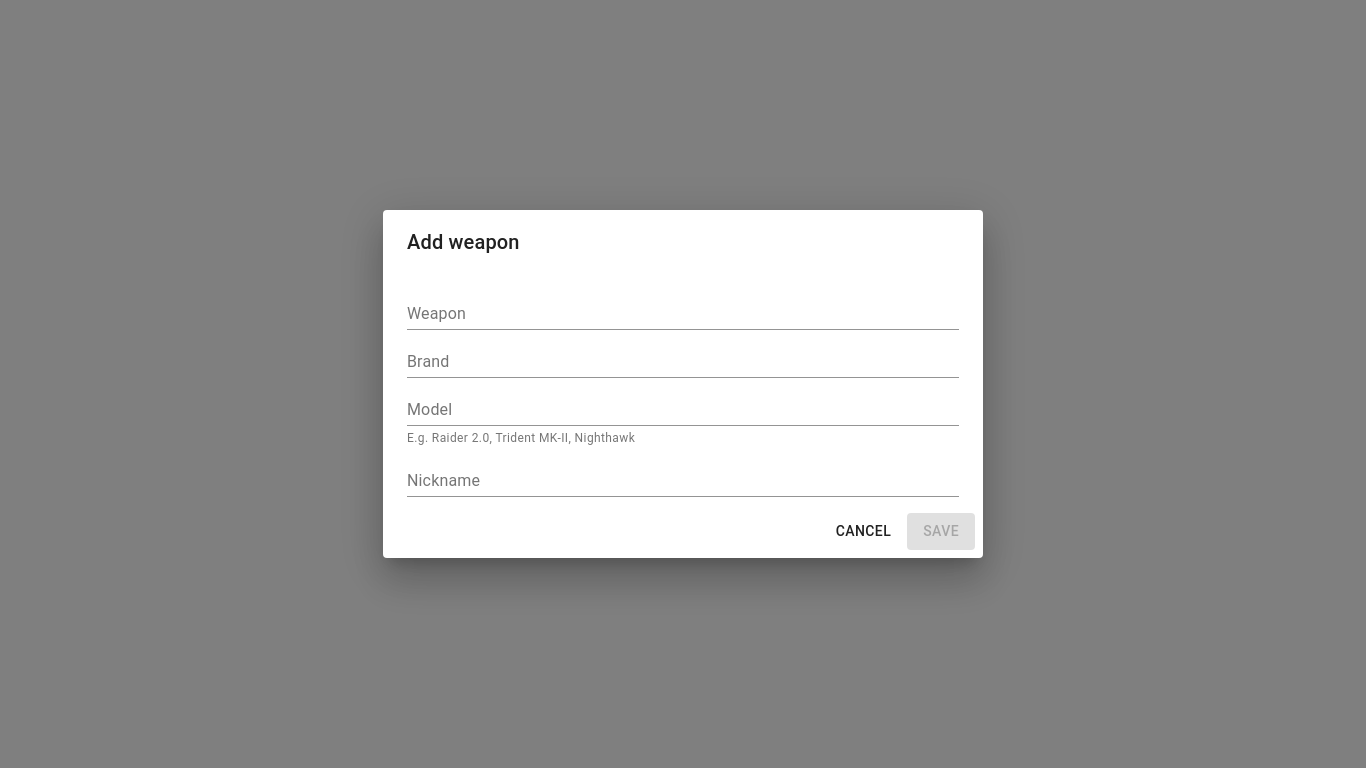
Test: Add armory item dialog › should show type if armory item is not a known one after adding some text
Type "p9" into the field labelled "Weapon" at [683, 314], box x1=407 y1=298 x2=959 y2=329
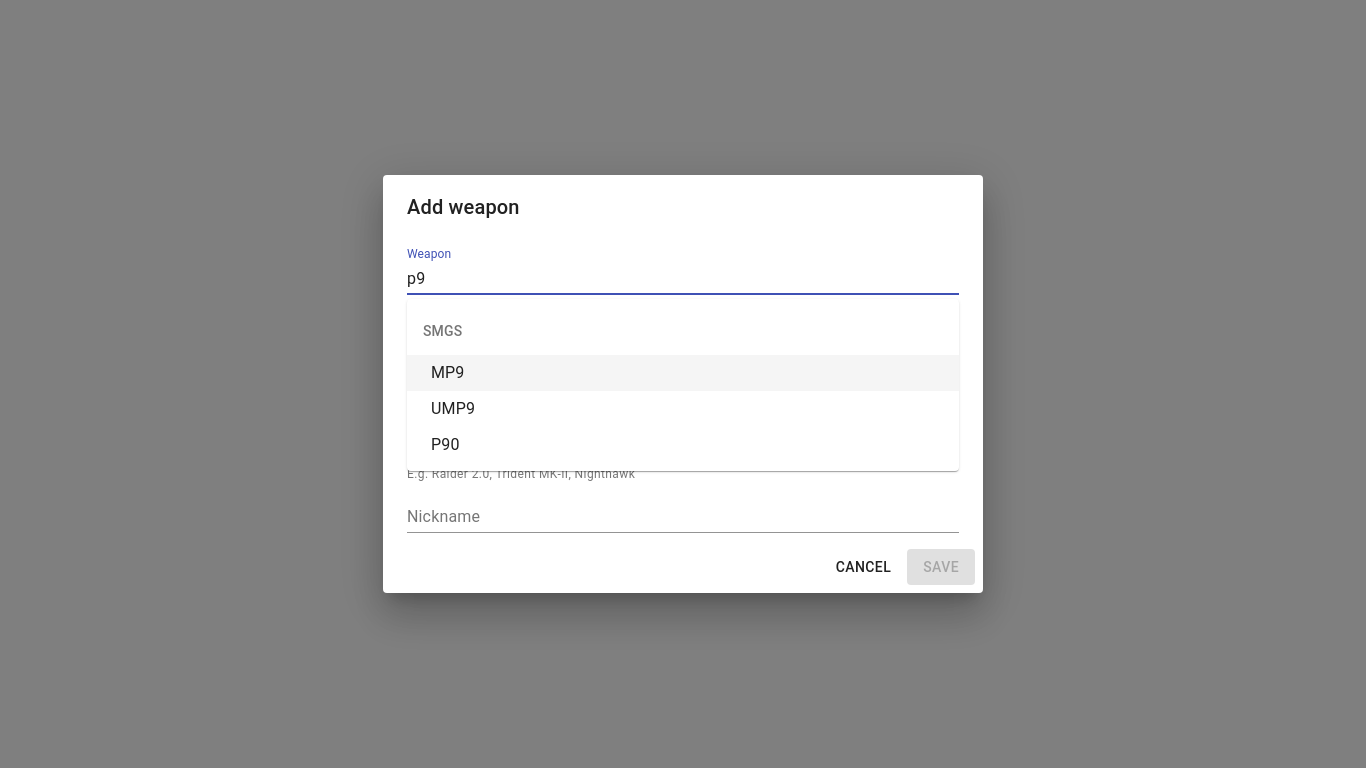
Click the option "P90" at [445, 444], box x1=431 y1=435 x2=460 y2=454
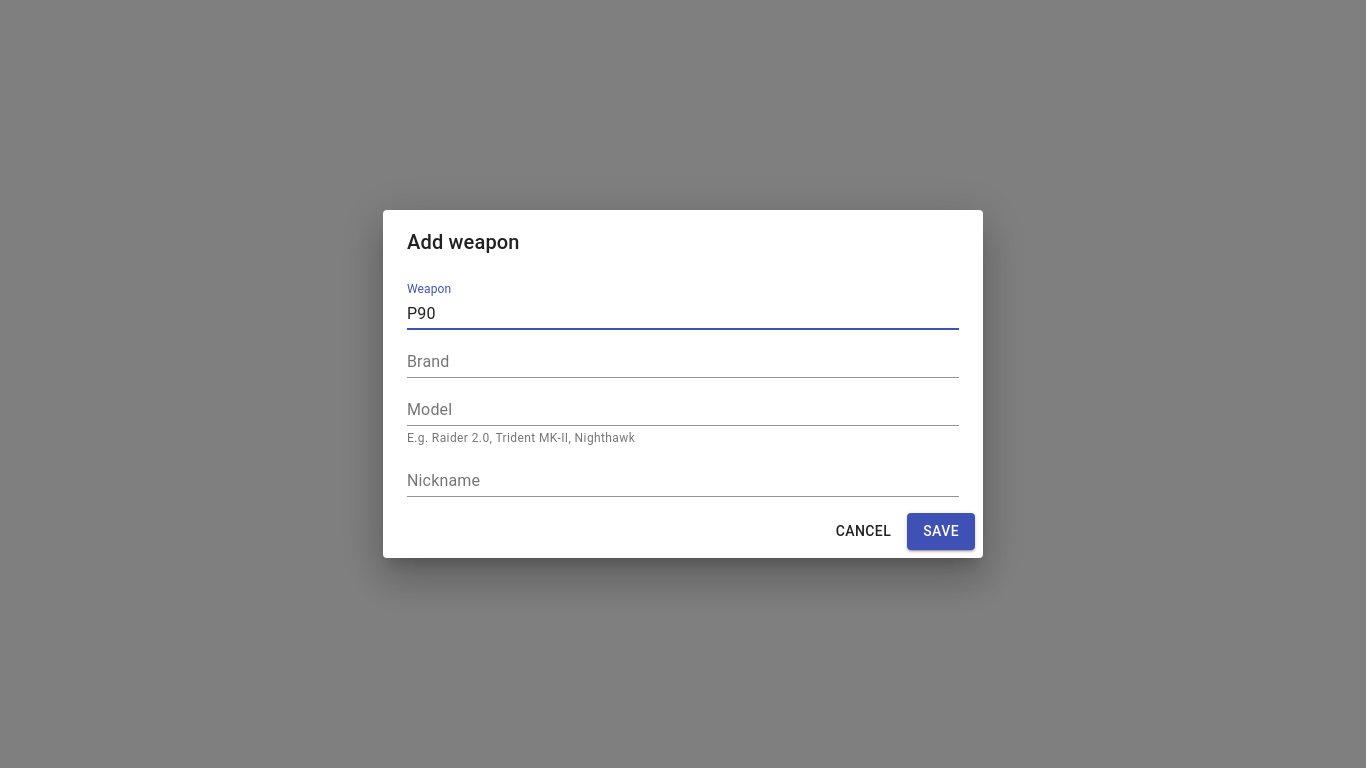
Expected: the label labelled "Type" is gone
Type "Z" into the field labelled "Weapon" at [683, 314], box x1=407 y1=298 x2=959 y2=329
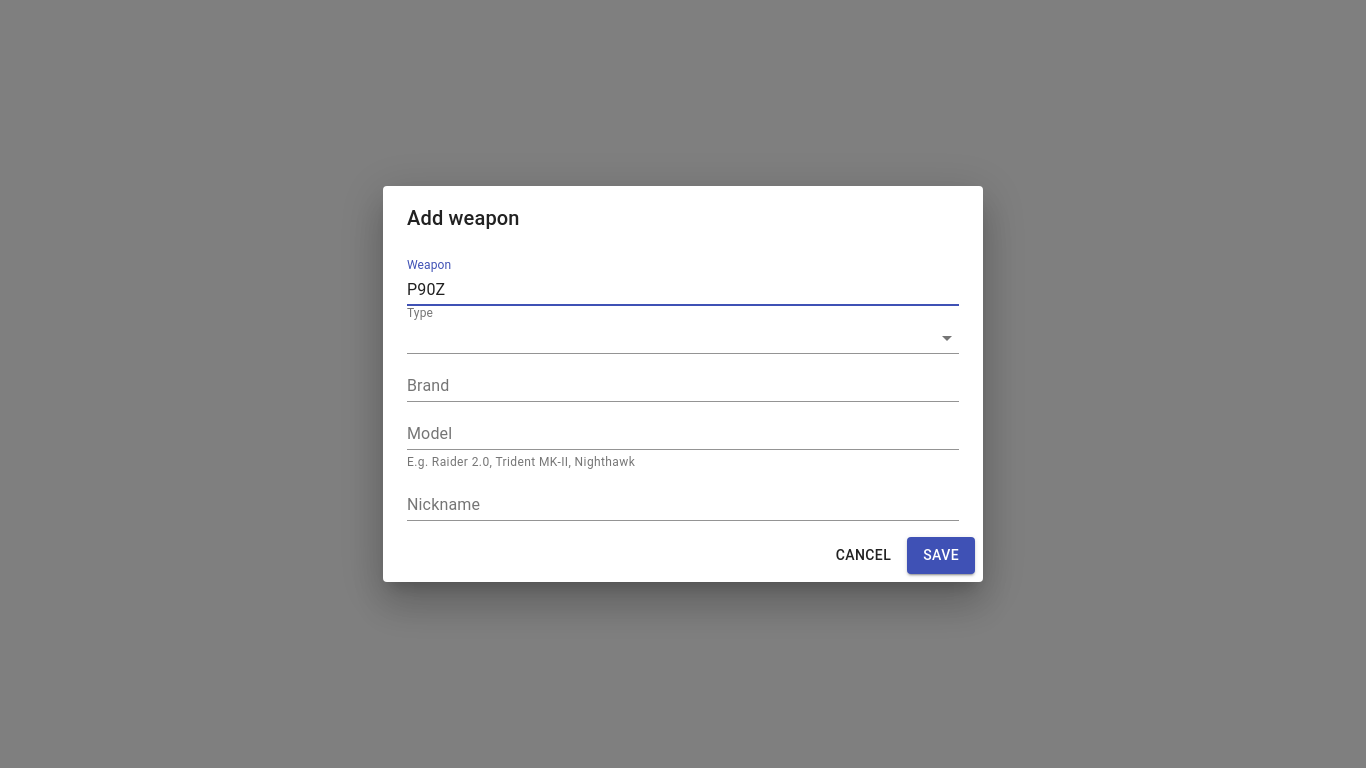
Expected: the button named "Type" is shown, x1=407 y1=322 x2=959 y2=354
